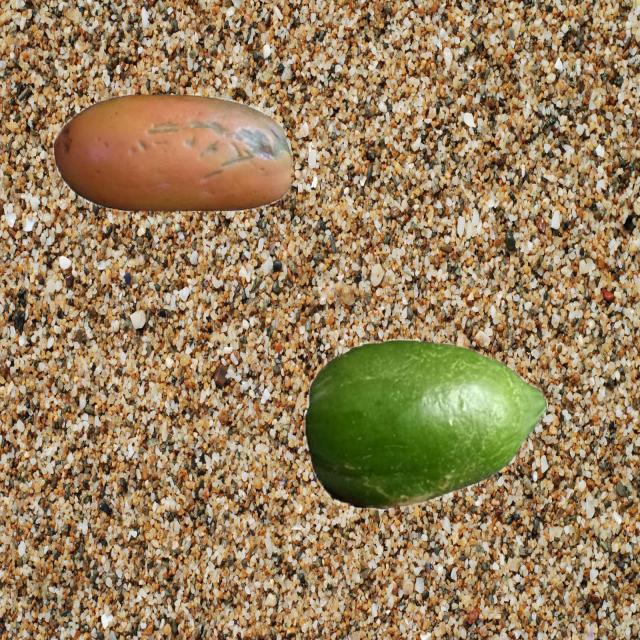Pepaya rippen: (46, 82, 298, 226)
Pepaya unrippen: (284, 328, 552, 520)
